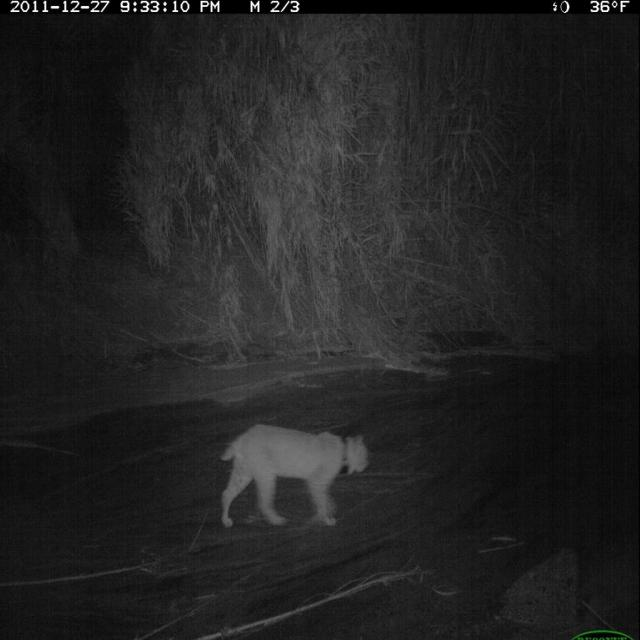bobcat: (214, 418, 377, 540)
